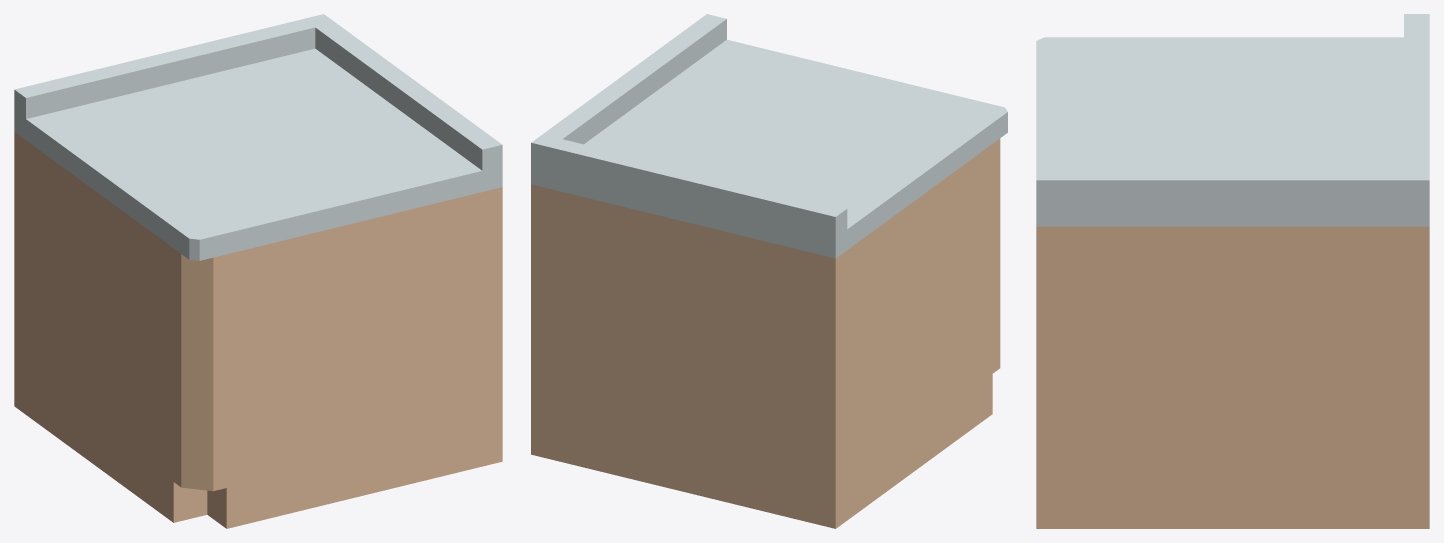
The model's file is kitchenCabinetCornerInner.glb.
3 views of the same model, side by side, from view 1: azimuth 30°, elevation 25°; view 2: azimuth 150°, elevation 25°; view 3: azimuth 270°, elevation 25° (orthographic). The views are drawn at different scales.
Visible parts, largest first — view 1: kitchenCabinetCornerInner(Clone); view 2: kitchenCabinetCornerInner(Clone); view 3: kitchenCabinetCornerInner(Clone).
Part boxes in pixels (x1,y1,x2,y2): kitchenCabinetCornerInner(Clone): (14,14,502,528); kitchenCabinetCornerInner(Clone): (531,14,1007,528); kitchenCabinetCornerInner(Clone): (1036,14,1429,528).
Bounding box in the file's own units: 0.46 × 0.45 × 0.46.
